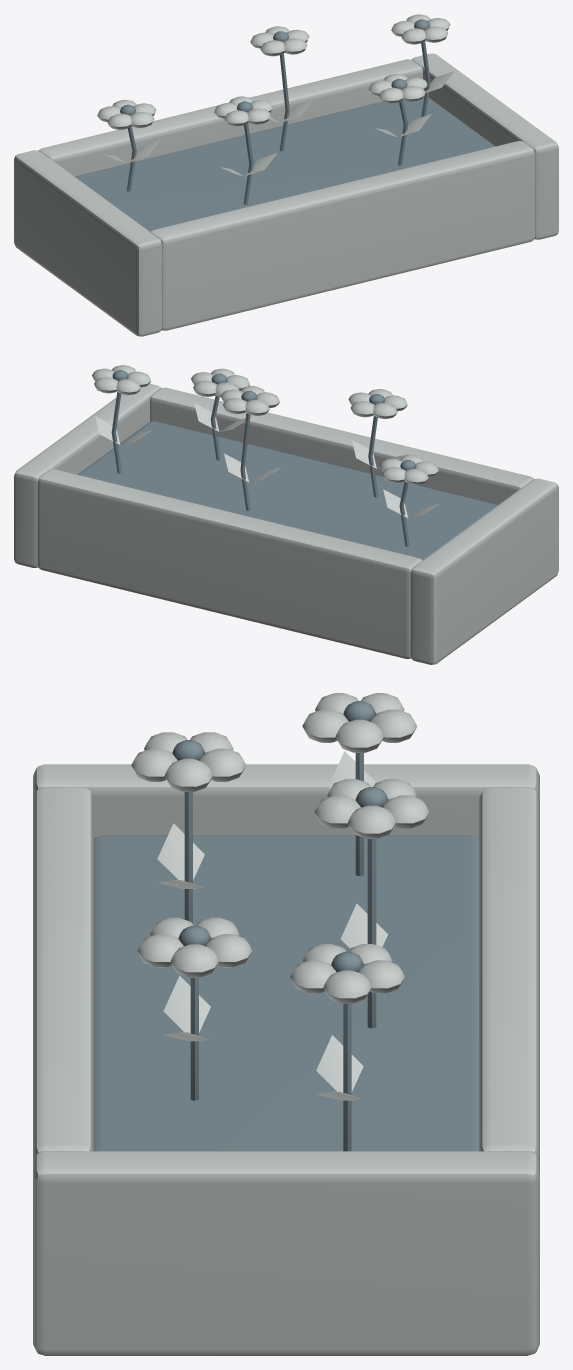
File: flower-bed.glb
The picture shows the model from 3 angles, top to bottom: view 1: azimuth 30°, elevation 25°; view 2: azimuth 150°, elevation 25°; view 3: azimuth 270°, elevation 25°; orthographic projection. The views are drawn at different scales.
Visible parts, largest first — view 1: bed_edge.001, soil, bed_end, bed_edge, bed_end.001, flower_stem.002; view 2: bed_edge, soil, bed_end, bed_edge.001, bed_end.001, flower_stem.002, flower_stem.004, flower_stem.001; view 3: bed_end.001, soil, bed_end, bed_edge, bed_edge.001, flower_stem.002, leaf.008, flower_stem.004, leaf.006, flower_petal.010, flower_petal.020, flower_petal.015 (+16 smaller).
Boxes of the visible parts, left/top/right/bottom form: bed_edge.001: left=150, top=141, right=535, bottom=330; soil: left=75, top=96, right=495, bottom=231; bed_end: left=14, top=150, right=162, bottom=336; bed_edge: left=38, top=59, right=422, bottom=176; bed_end.001: left=411, top=53, right=558, bottom=239; flower_stem.002: left=279, top=53, right=289, bottom=151; bed_edge: left=37, top=469, right=422, bottom=658; soil: left=77, top=421, right=497, bottom=559; bed_end: left=410, top=478, right=558, bottom=664; bed_edge.001: left=150, top=387, right=533, bottom=504; bed_end.001: left=14, top=383, right=160, bottom=567; flower_stem.002: left=240, top=413, right=250, bottom=510; flower_stem.004: left=111, top=392, right=121, bottom=473; flower_stem.001: left=368, top=416, right=378, bottom=497; bed_end.001: left=33, top=1151, right=539, bottom=1355; soil: left=94, top=835, right=478, bottom=1151; bed_end: left=33, top=764, right=539, bottom=837; bed_edge: left=479, top=787, right=539, bottom=1162; bed_edge.001: left=33, top=787, right=93, bottom=1162; flower_stem.002: left=367, top=839, right=376, bottom=1028; leaf.008: left=316, top=1035, right=363, bottom=1092; flower_stem.004: left=343, top=1003, right=351, bottom=1151; leaf.006: left=163, top=975, right=210, bottom=1033; flower_petal.010: left=348, top=805, right=395, bottom=838; flower_petal.020: left=323, top=970, right=371, bottom=1003; flower_petal.015: left=171, top=944, right=218, bottom=977.
Size of the model in its own units: 1.6 by 0.688 by 0.83.
